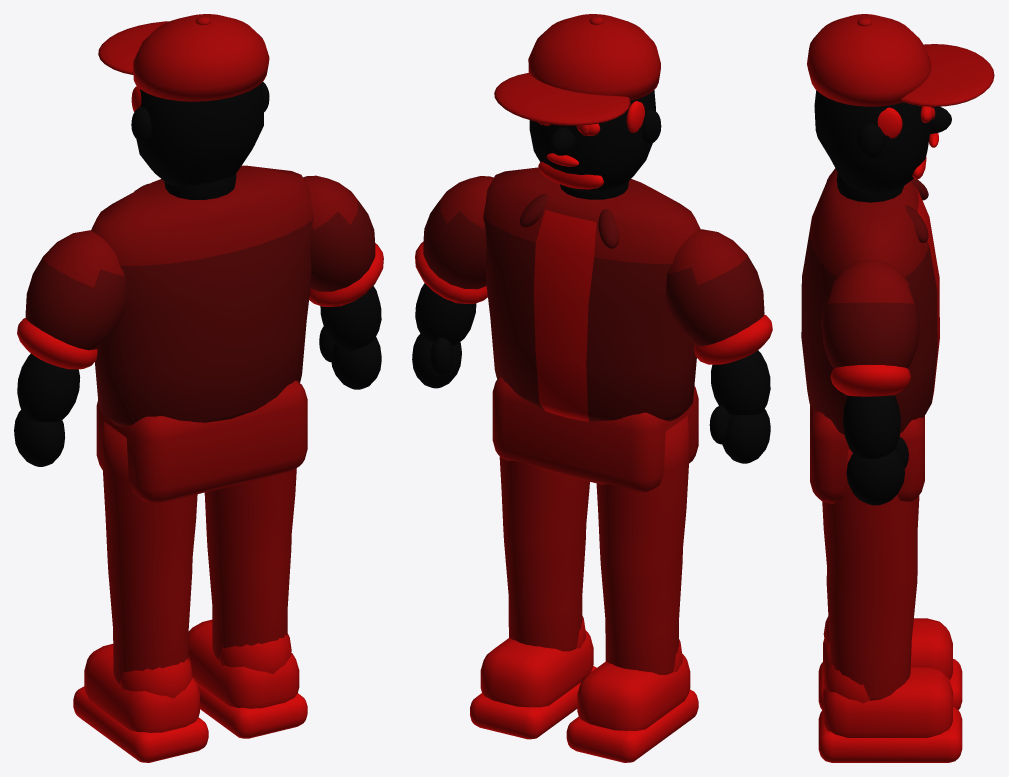
Rendered from pedestrian_worker_a.glb.
3 views of the same model, side by side, from view 1: azimuth 30°, elevation 25°; view 2: azimuth 150°, elevation 25°; view 3: azimuth 270°, elevation 25° (orthographic). The views are drawn at different scales.
Visible parts, largest first — view 1: WorkerMesh; view 2: WorkerMesh; view 3: WorkerMesh.
Boxes of the visible parts, x1,y1,x2,y2 form: WorkerMesh: (14, 14, 383, 762); WorkerMesh: (412, 14, 772, 762); WorkerMesh: (801, 14, 994, 762).
Bounding box in the file's own units: 0.978 × 1.86 × 0.46.
